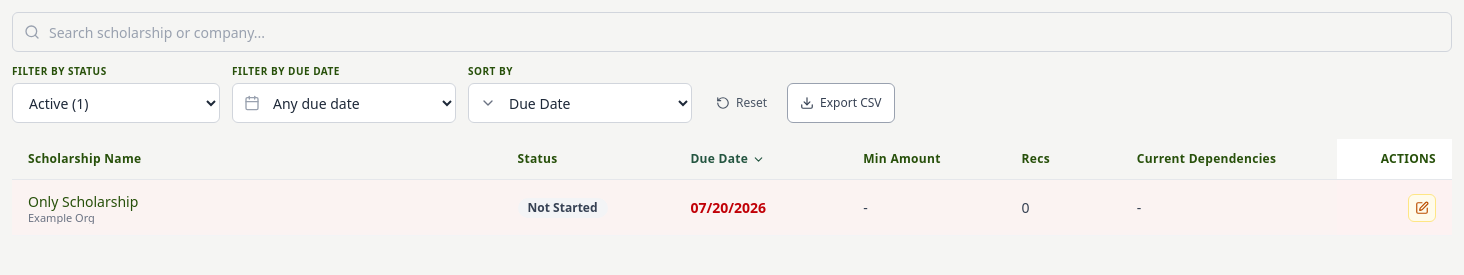
Test: GridView › disables export when no applications match the current filters
Type "no matches" into the search field at (732, 32), box [12,12,1452,52]
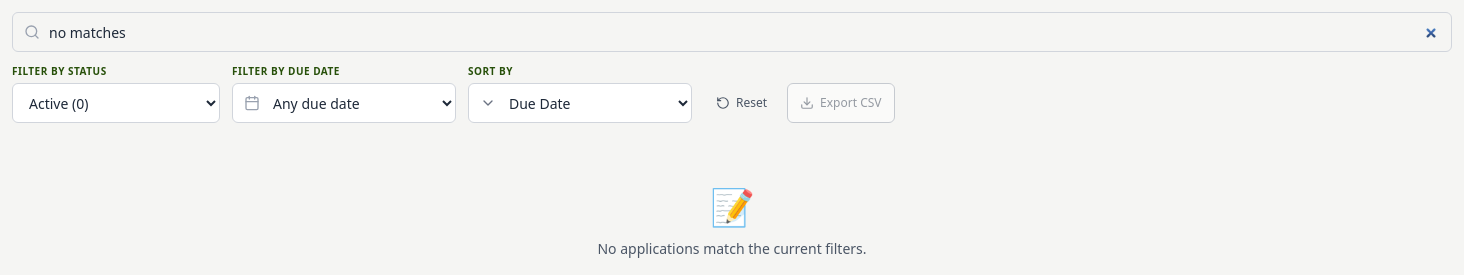
expect the button "Export CSV" is disabled: met, box [787,83,895,123]
